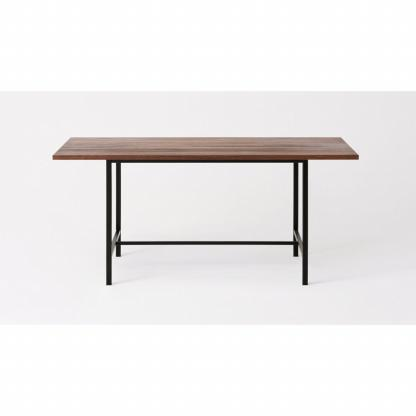Table: (45, 123, 382, 302)
